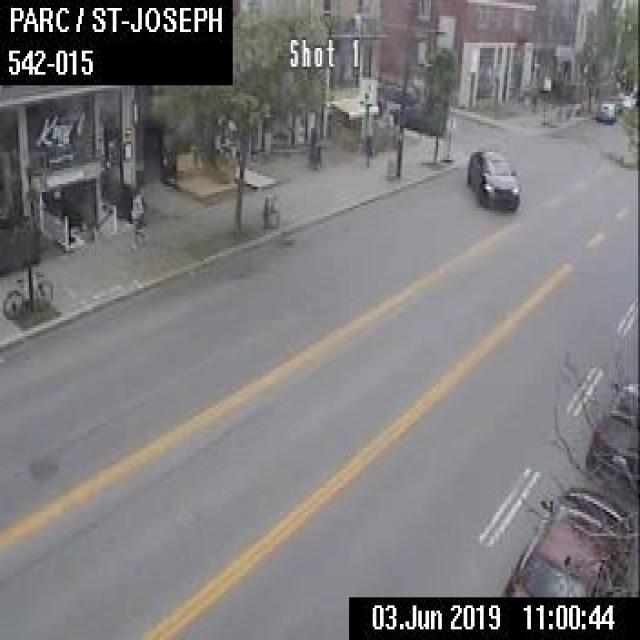pedestrian: (129, 185, 143, 249)
vehicle: (498, 484, 634, 595), (584, 378, 638, 494), (465, 144, 519, 211), (388, 96, 454, 138)
